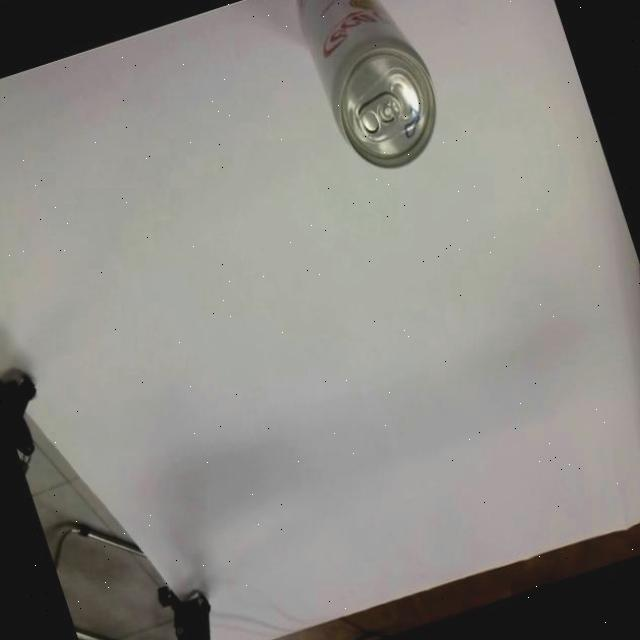debris: (286, 0, 455, 185)
